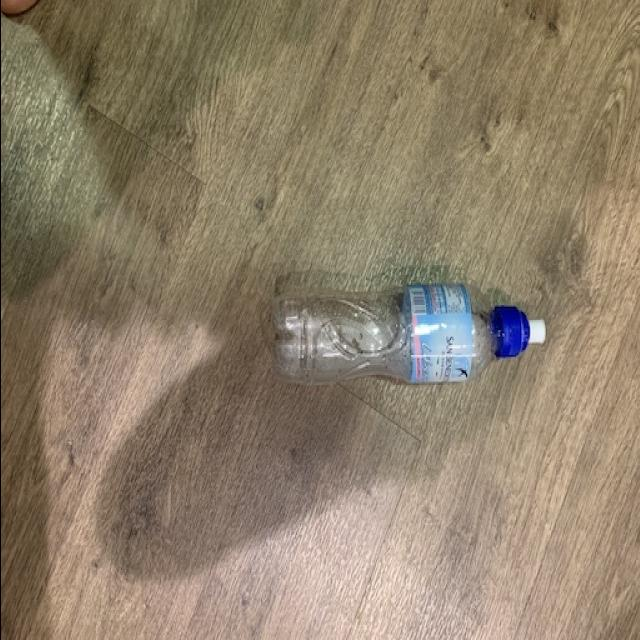PET: (266, 282, 548, 388)
